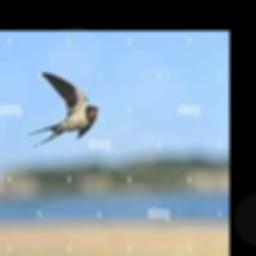Swallow: (28, 71, 98, 146)
